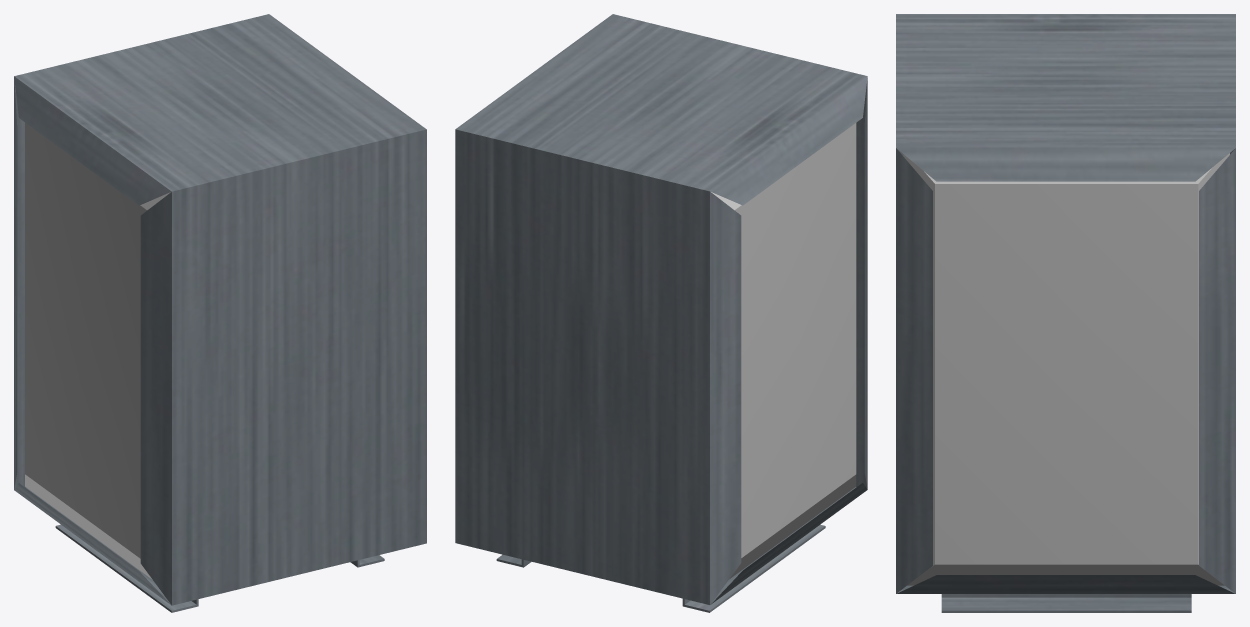
File: Porta Guardanapo.FBX
3 views of the same model, side by side, from view 1: azimuth 30°, elevation 25°; view 2: azimuth 150°, elevation 25°; view 3: azimuth 270°, elevation 25° (orthographic). The views are drawn at different scales.
Visible parts, largest first — view 1: Porta Guardanapo, Guardanapos; view 2: Porta Guardanapo, Guardanapos; view 3: Guardanapos, Porta Guardanapo.
Boxes of the visible parts, x1,y1,x2,y2 form: Porta Guardanapo: [14, 14, 426, 612]; Guardanapos: [25, 122, 170, 579]; Porta Guardanapo: [455, 14, 867, 612]; Guardanapos: [711, 123, 856, 579]; Guardanapos: [903, 153, 1229, 585]; Porta Guardanapo: [896, 14, 1235, 612].
Size of the model in its own units: 8.31 by 12.4 by 8.02.
